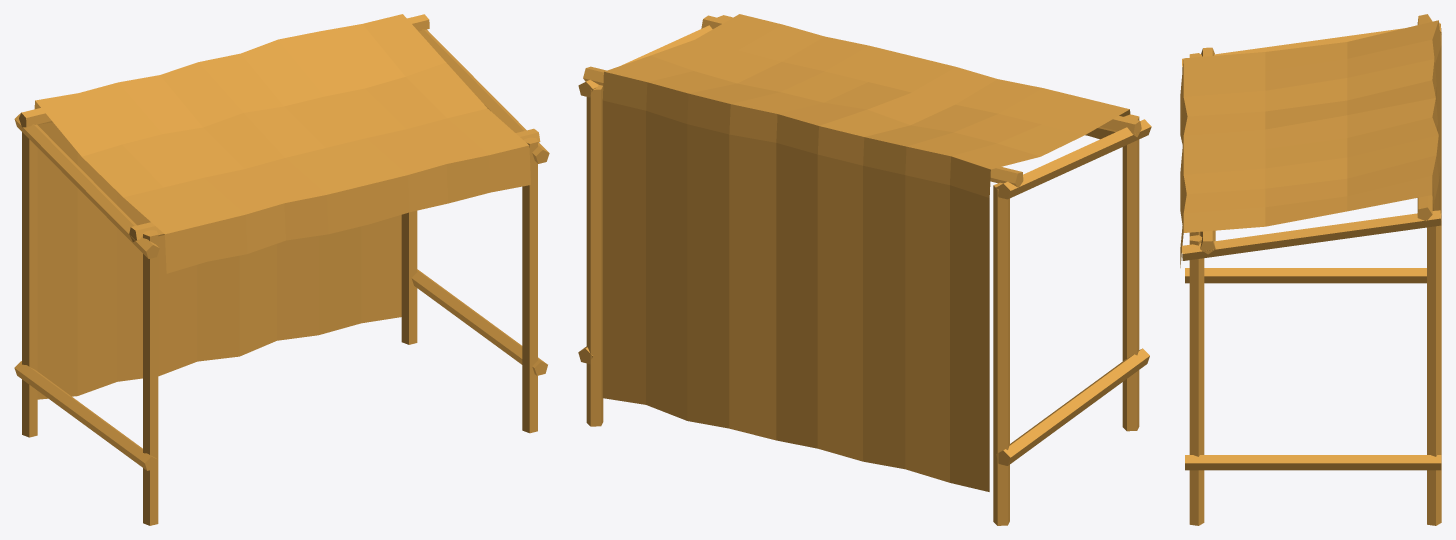
Rendered from marketplace-stand-simple.glb.
3 renders of one model, left to right at view 1: azimuth 30°, elevation 25°; view 2: azimuth 150°, elevation 25°; view 3: azimuth 270°, elevation 25°, orthographic. The views are drawn at different scales.
Visible parts, largest first — view 1: marketplace-stand-simple; view 2: marketplace-stand-simple; view 3: marketplace-stand-simple.
Boxes of the visible parts, bbox=[...] form: marketplace-stand-simple: bbox=[14, 14, 549, 525]; marketplace-stand-simple: bbox=[578, 14, 1151, 525]; marketplace-stand-simple: bbox=[1180, 14, 1441, 525].
Size of the model in its own units: 3.06 by 2.4 by 1.74.
